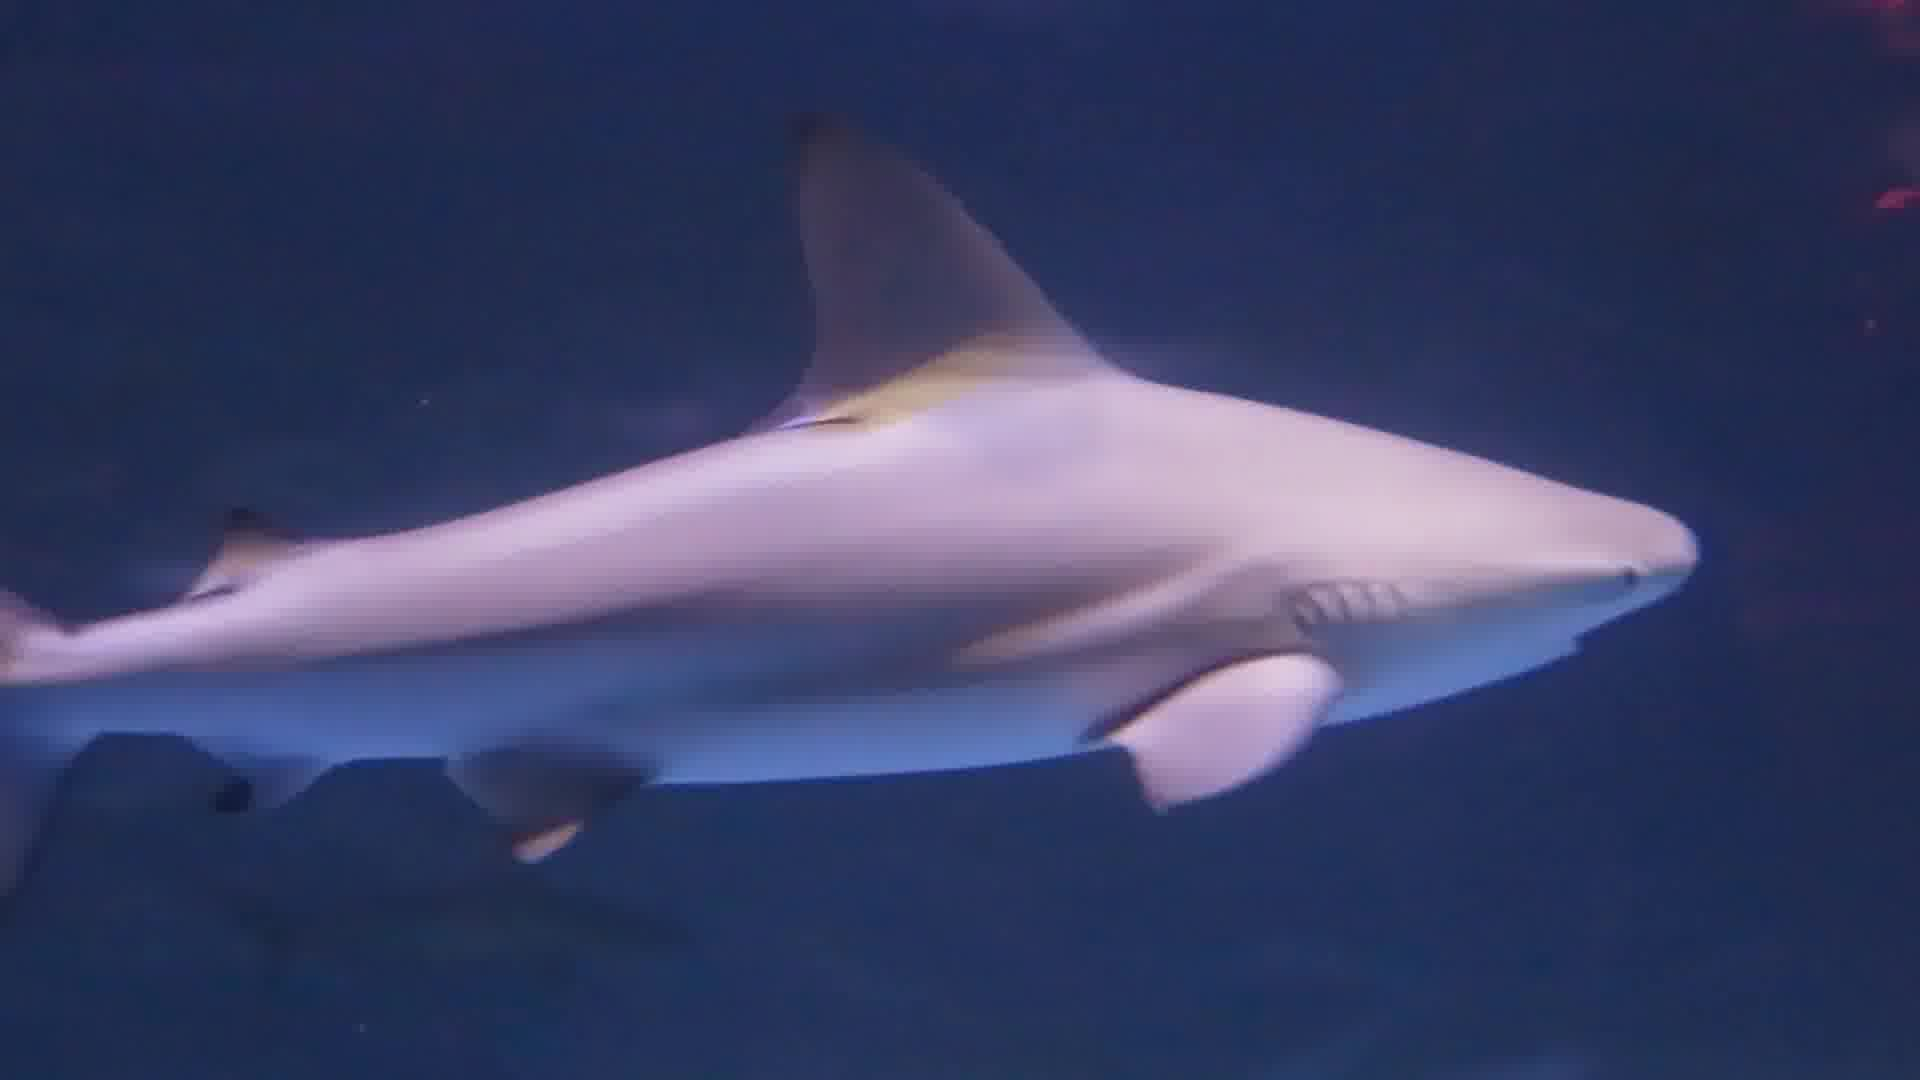Carcharhinus leucas: (7, 4, 1725, 907)
